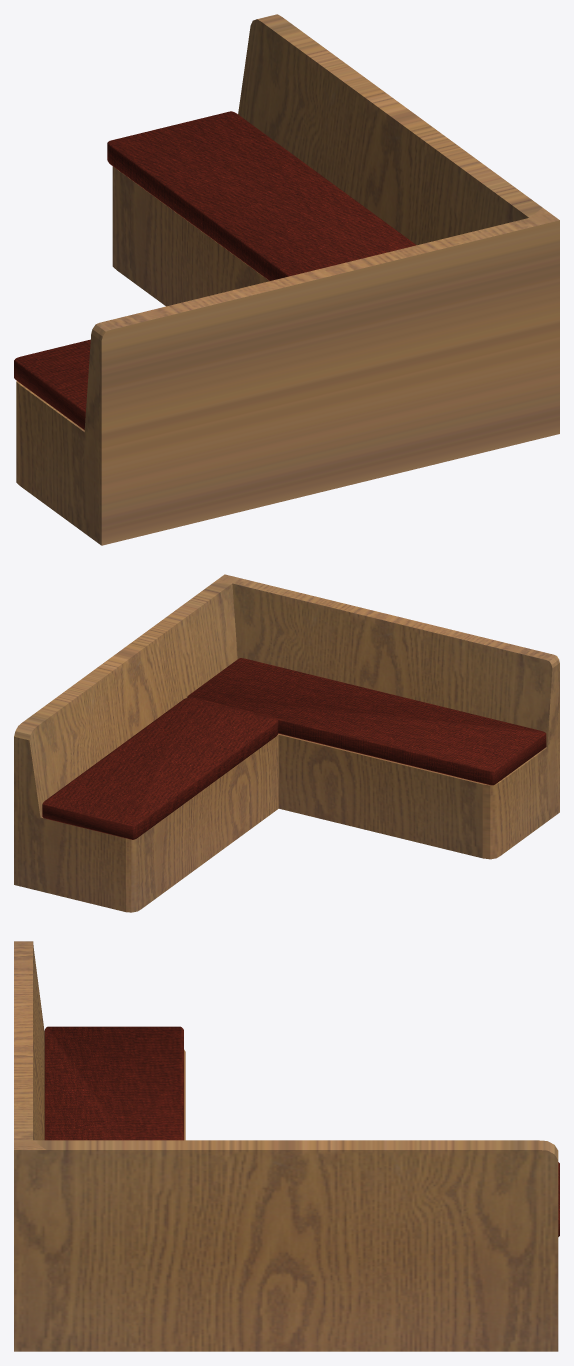
The model's file is couch.fbx.
3 renders of one model, top to bottom at view 1: azimuth 30°, elevation 25°; view 2: azimuth 150°, elevation 25°; view 3: azimuth 270°, elevation 25°, orthographic. The views are drawn at different scales.
Visible parts, largest first — view 1: couch; view 2: couch; view 3: couch.
Boxes of the visible parts, x1,y1,x2,y2 form: couch: [14, 14, 559, 545]; couch: [14, 574, 559, 912]; couch: [14, 941, 559, 1351].
Size of the model in its own units: 949 by 423 by 1037.
